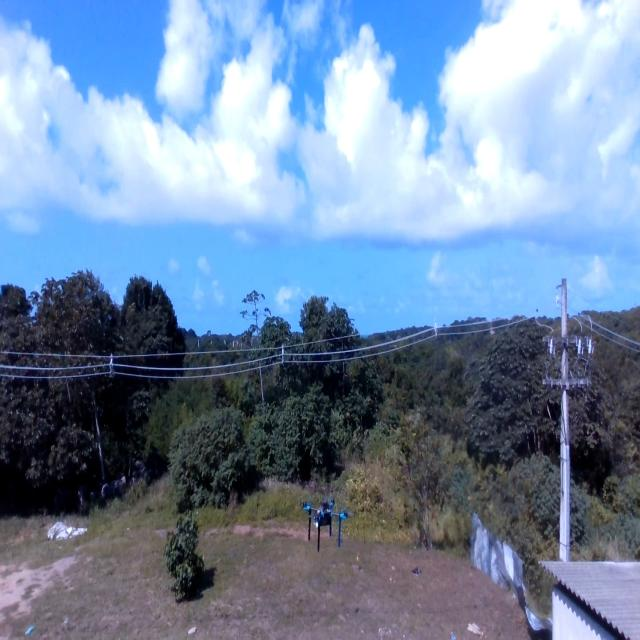-uav-: (299, 495, 349, 561)
